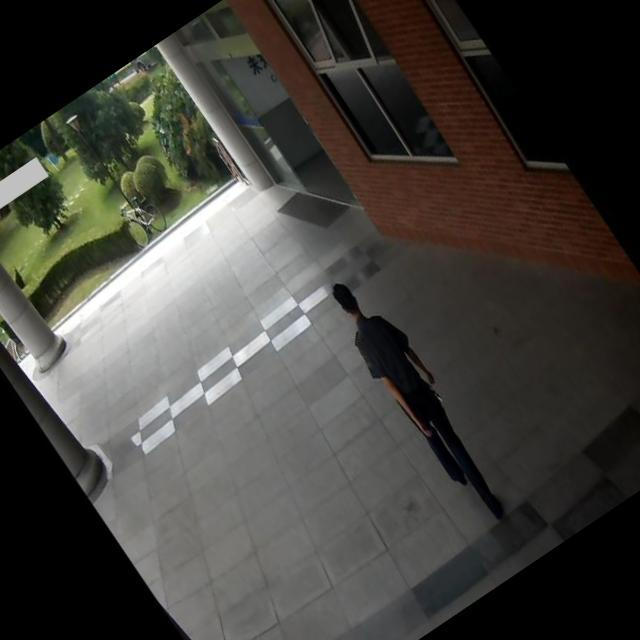person: (308, 260, 526, 542)
